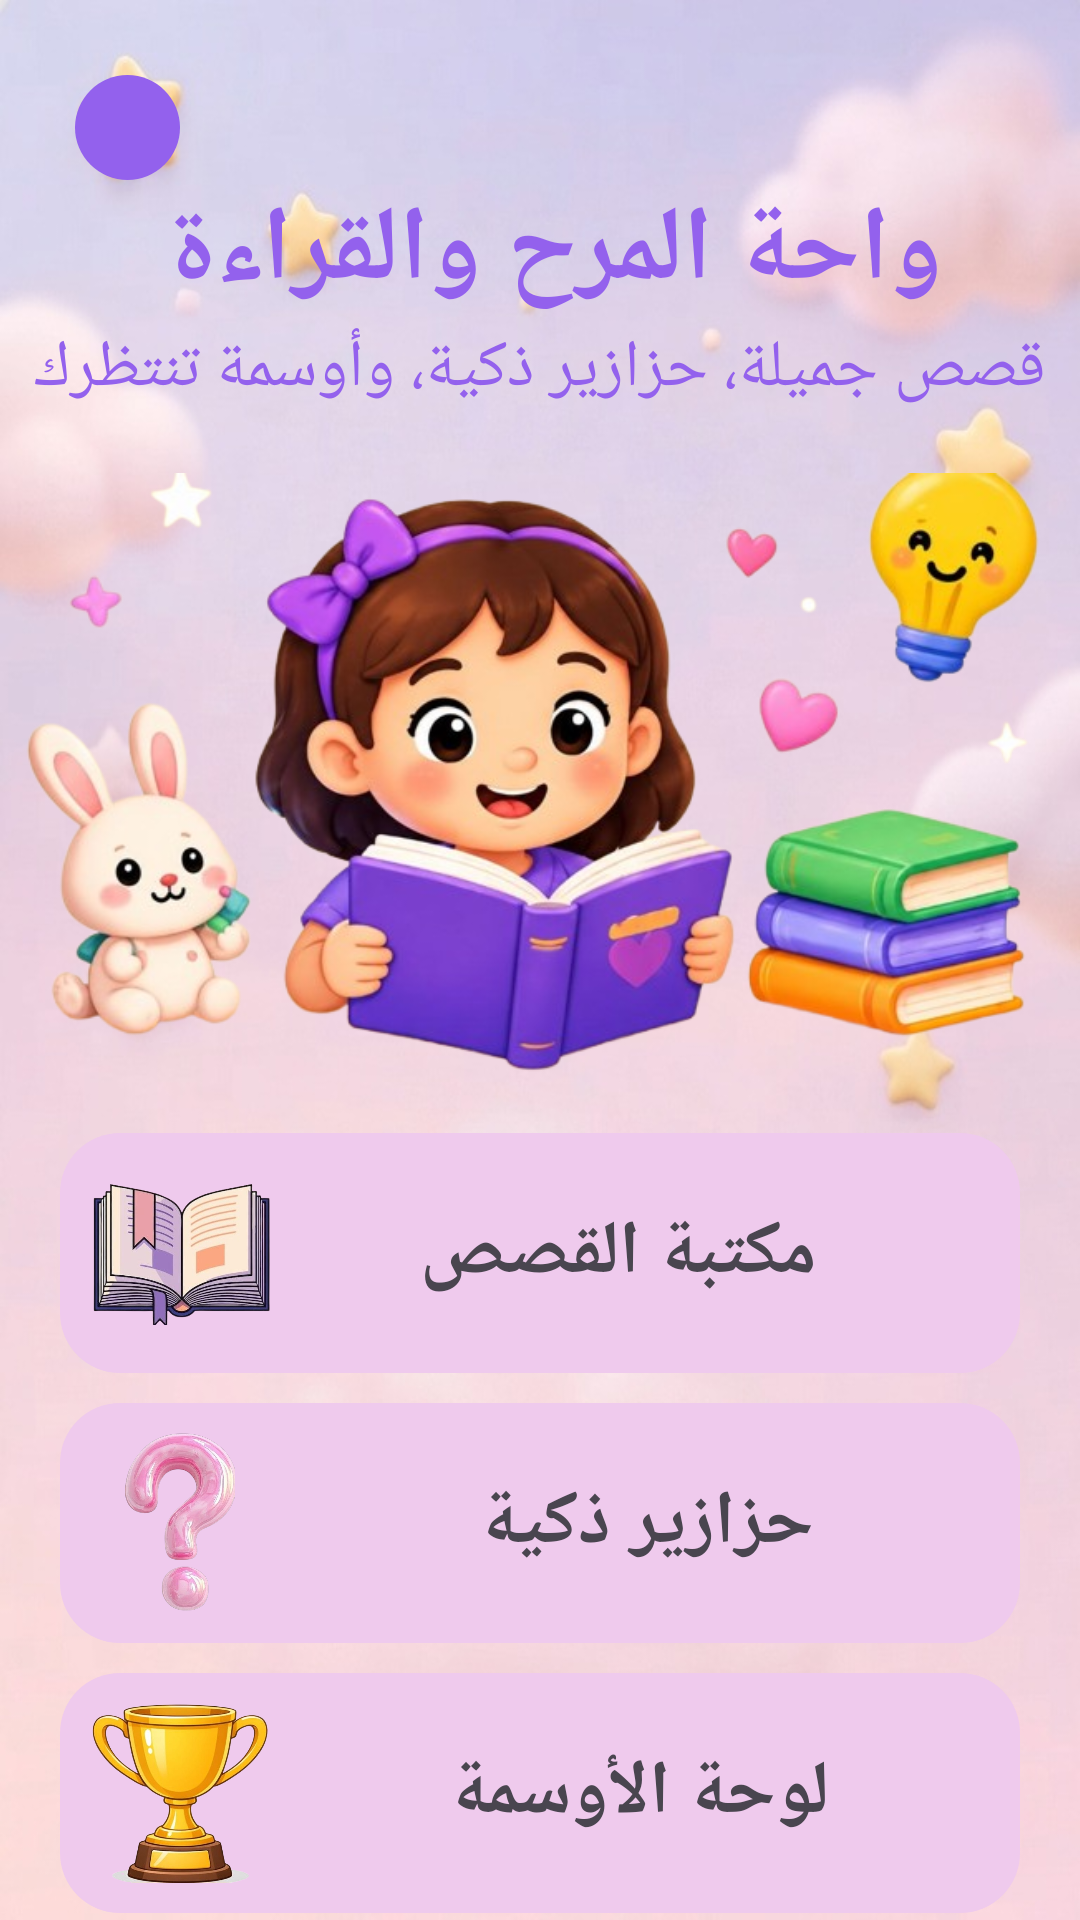

Icon bounding boxes for this 1080x1920 phone screenshot, format (x1, y1, x2, y2):
book: (93, 1184, 270, 1325)
cubb: (92, 1704, 268, 1883)
